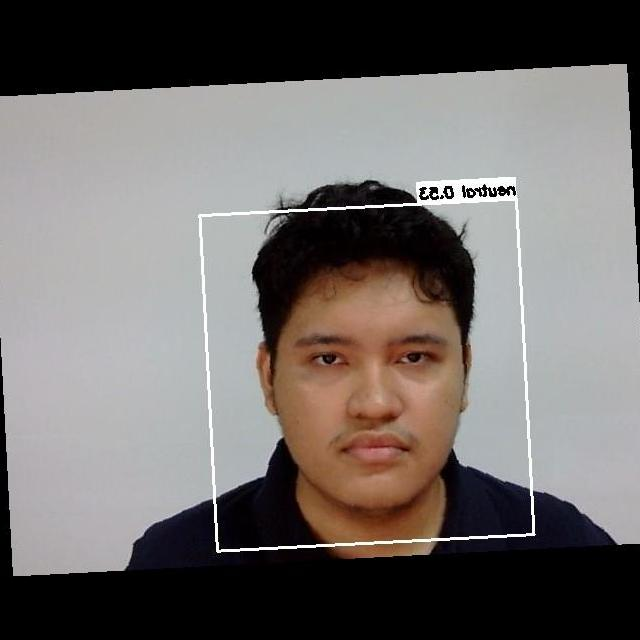Natural: (278, 308, 459, 481)
